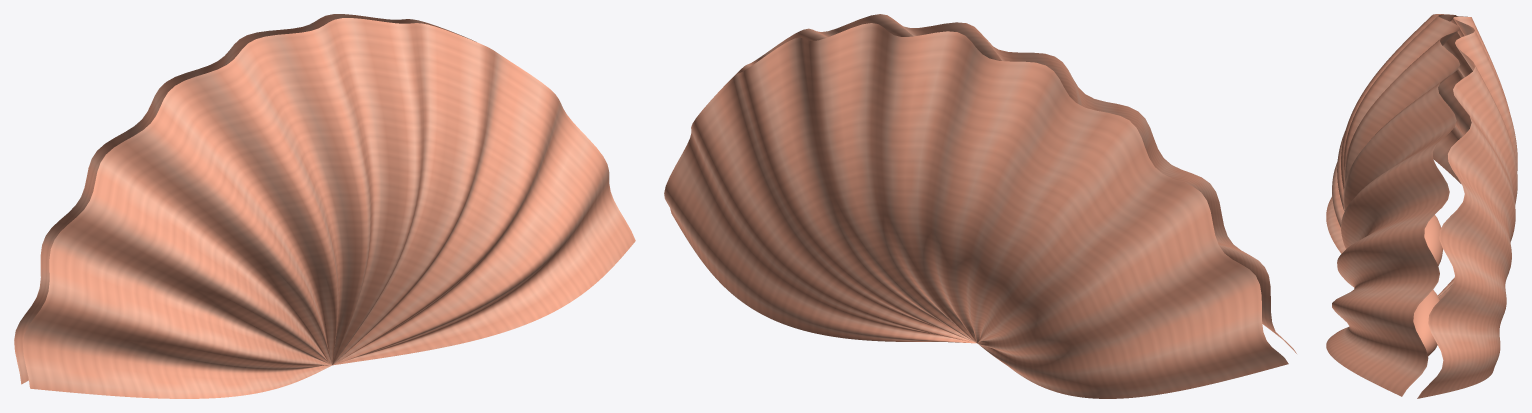
File: scallop.glb
The picture shows the model from 3 angles, left to right: view 1: azimuth 30°, elevation 25°; view 2: azimuth 150°, elevation 25°; view 3: azimuth 270°, elevation 25°; orthographic projection. The views are drawn at different scales.
Parts seen in each view (by area): view 1: scallop; view 2: scallop; view 3: scallop.
Part boxes in pixels (box(x1,y1,x2,y2)): scallop: box(14, 14, 635, 398); scallop: box(664, 14, 1296, 398); scallop: box(1326, 14, 1517, 398).
Bounding box in the file's own units: 2.5 × 1.27 × 0.7996.
